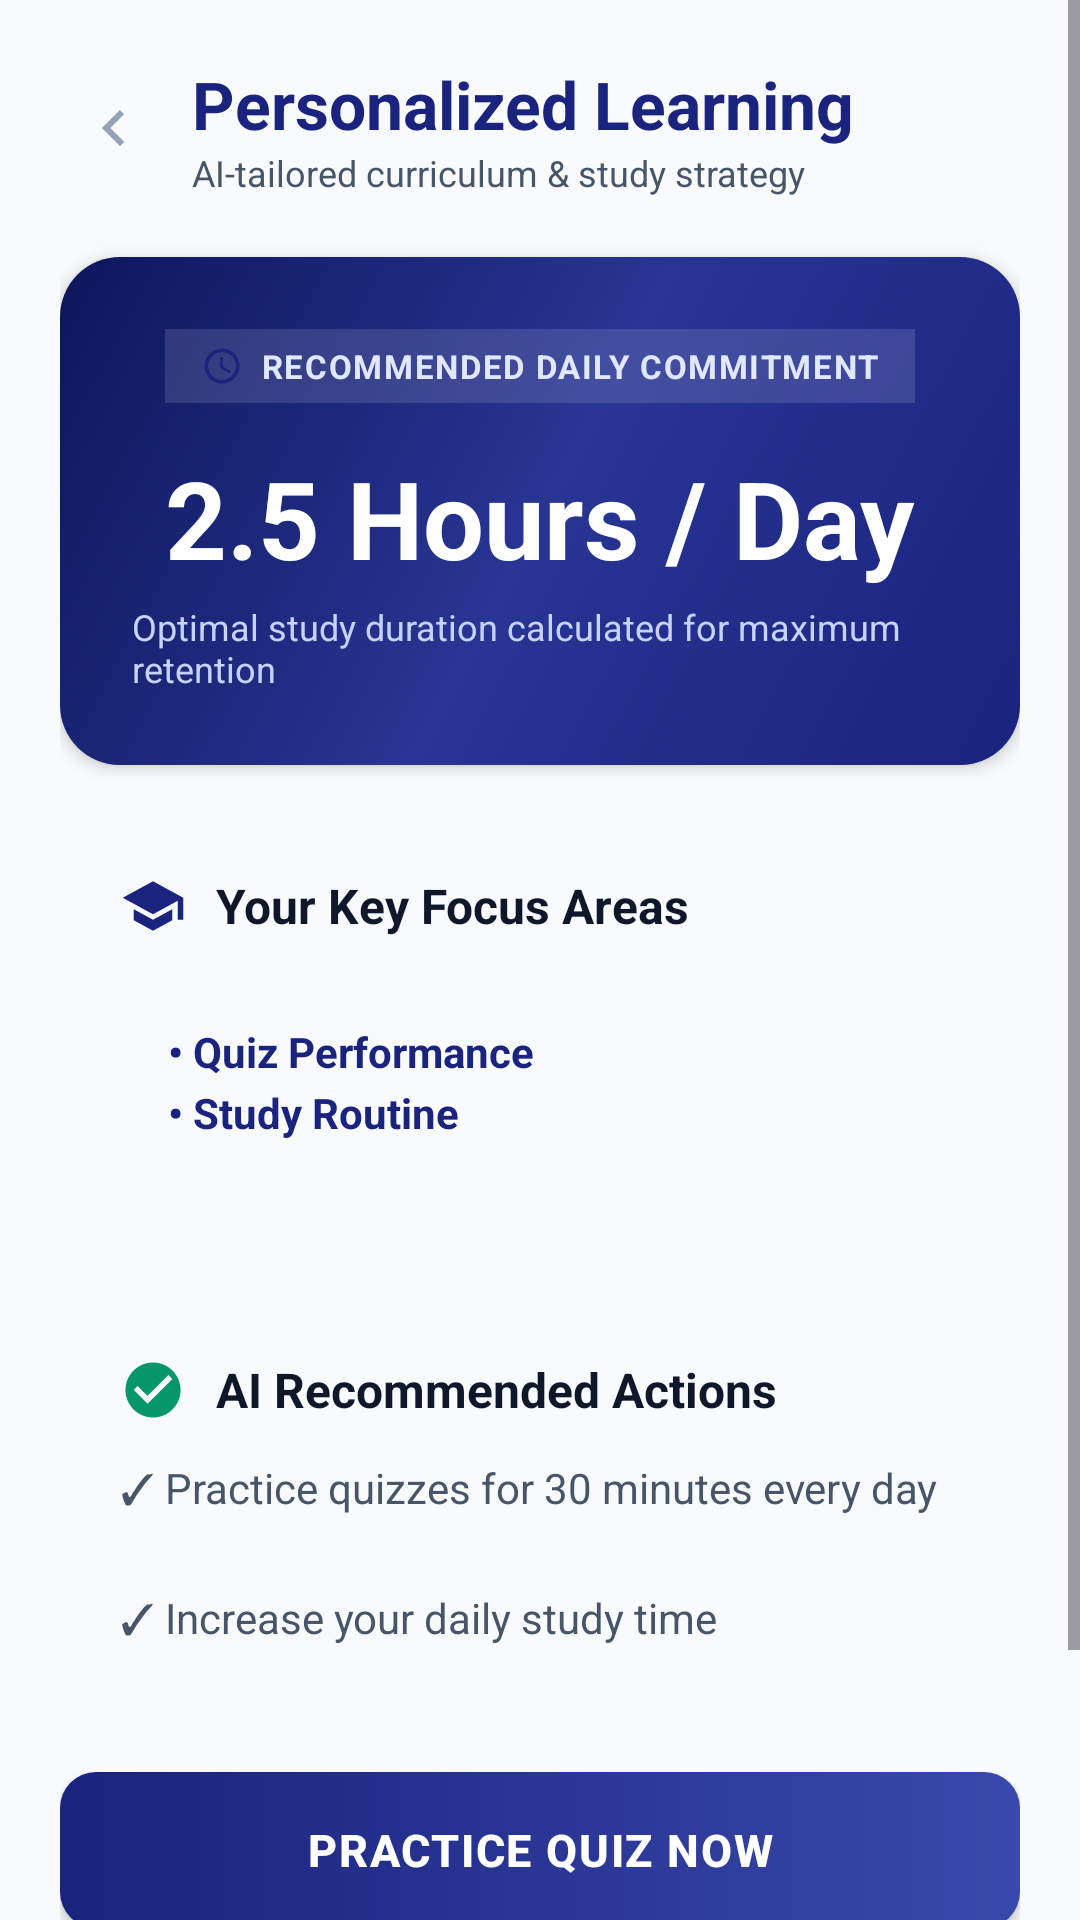

Icon click points for this 1080 x 1920 phone screenshot, format (x,y):
check circle: (153,1390)
school: (153,906)
time: (222,366)
